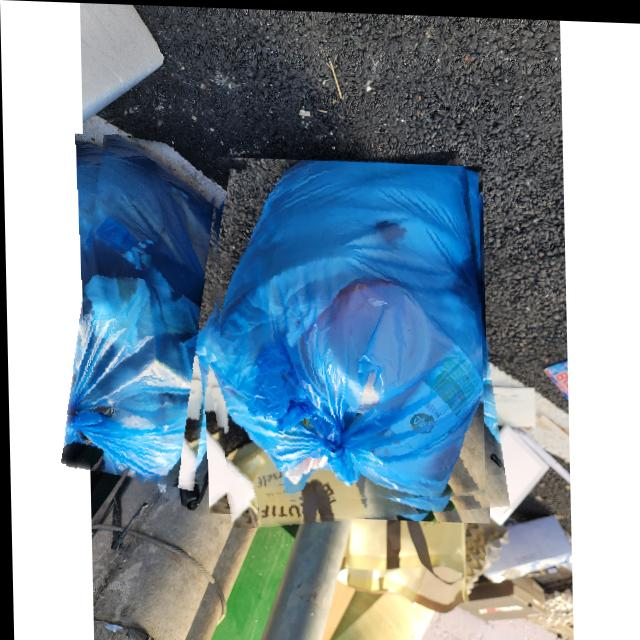other_trashbag: (207, 159, 481, 496), (64, 135, 217, 480)
